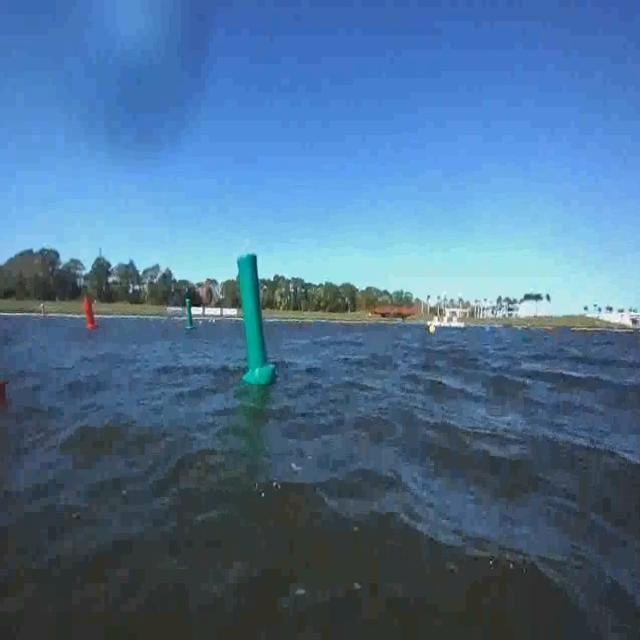green-column-buoy: (233, 249, 275, 387), (184, 298, 195, 332)
red-column-buoy: (82, 295, 98, 330)
yellow-buoy: (428, 323, 436, 336)
